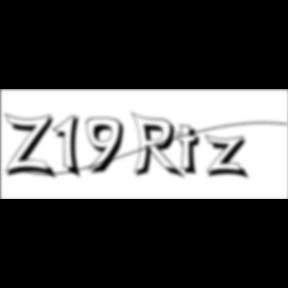1: (52, 114, 88, 182)
9: (86, 117, 132, 177)
R: (132, 112, 189, 182)
Z: (4, 112, 60, 181)
t: (176, 124, 207, 179)
z: (204, 134, 253, 182)
